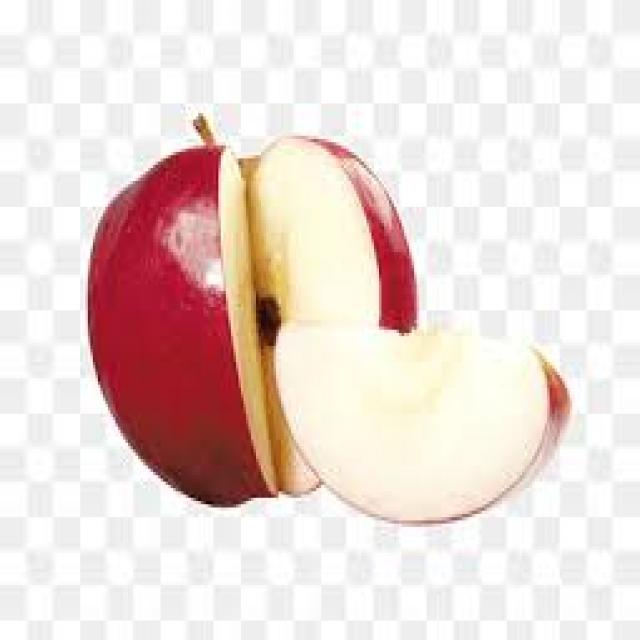Apple: (87, 104, 415, 495), (276, 326, 568, 528)
